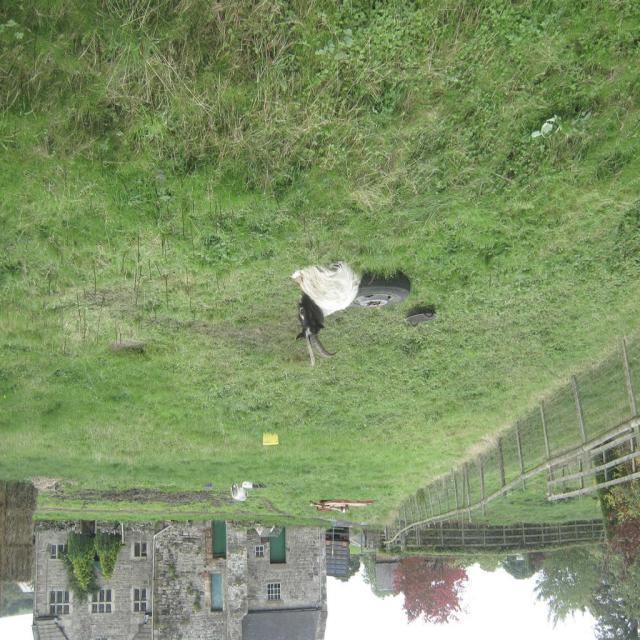Goat: (290, 261, 363, 367)
